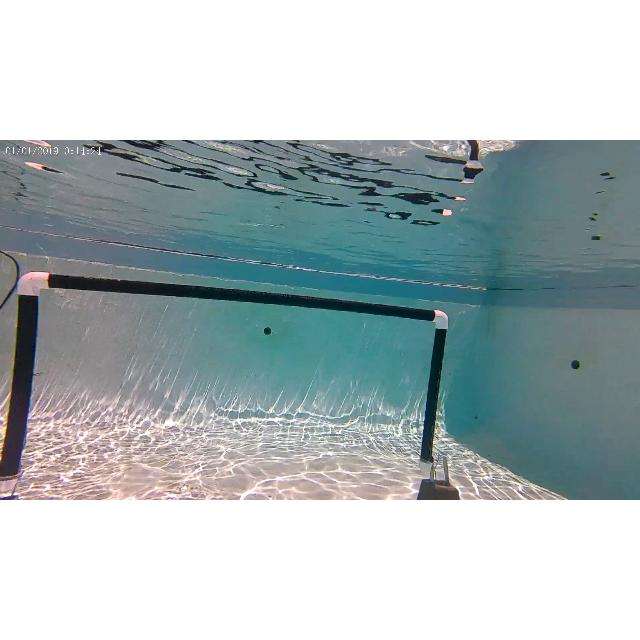prequal gate: (0, 271, 448, 471)
prequal gate leg l: (1, 270, 55, 472)
prequal gate leg r: (411, 294, 449, 470)
